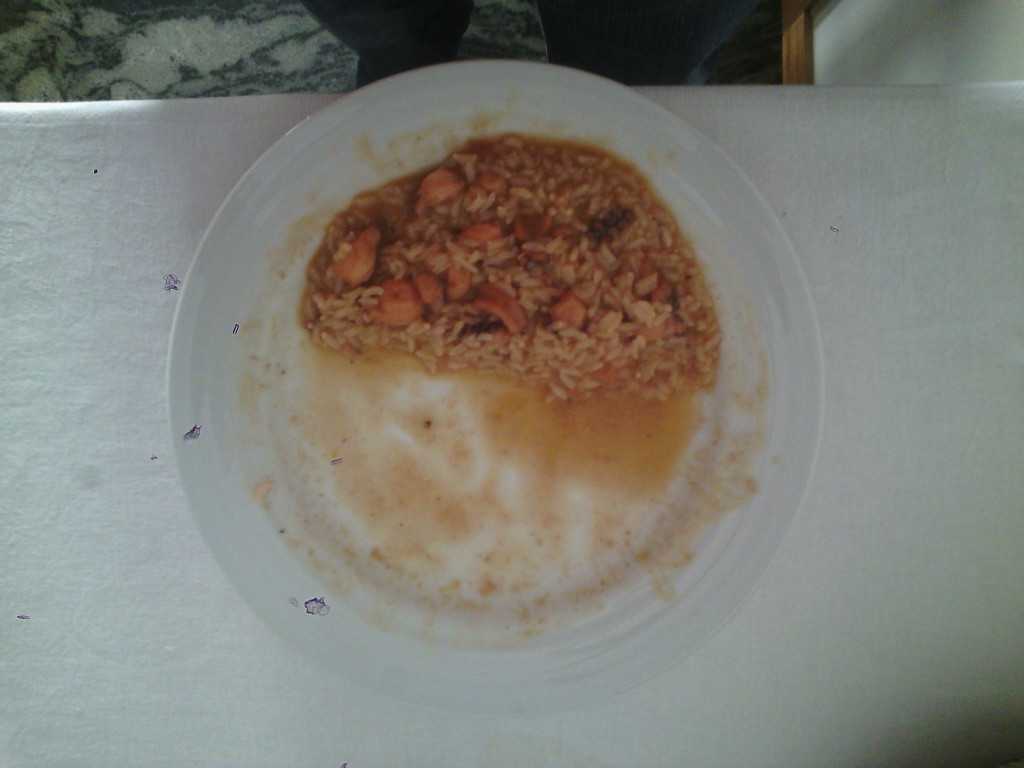41-60: (168, 59, 822, 713)
